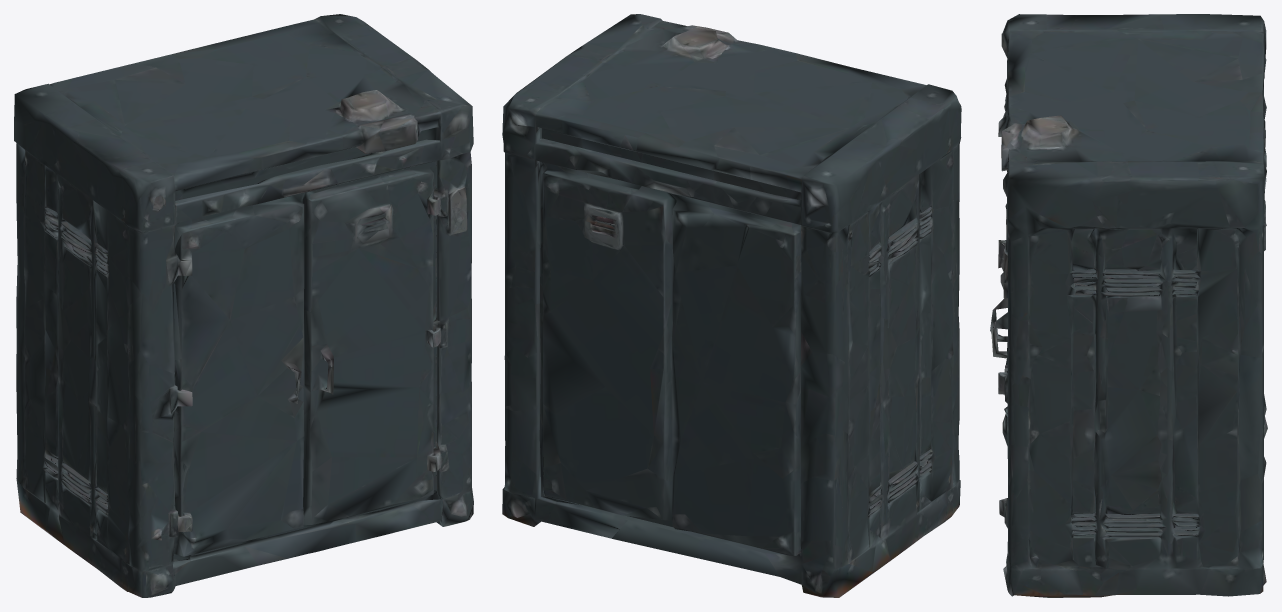
Rendered from galley_fridge.glb.
3 renders of one model, left to right at view 1: azimuth 30°, elevation 25°; view 2: azimuth 150°, elevation 25°; view 3: azimuth 270°, elevation 25°, orthographic.
Bounding box in the file's own units: 1.59 × 1.9 × 1.11.
Materials: 1 (1 with a texture image).
